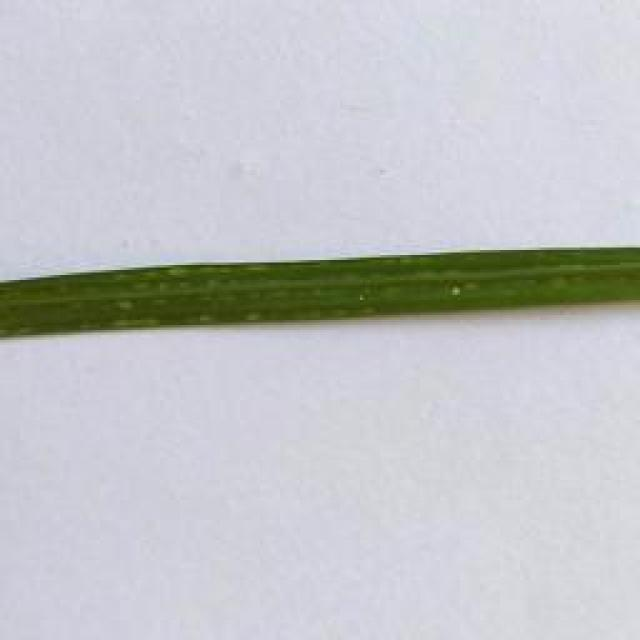Healthy-Plant: (0, 248, 640, 341)
